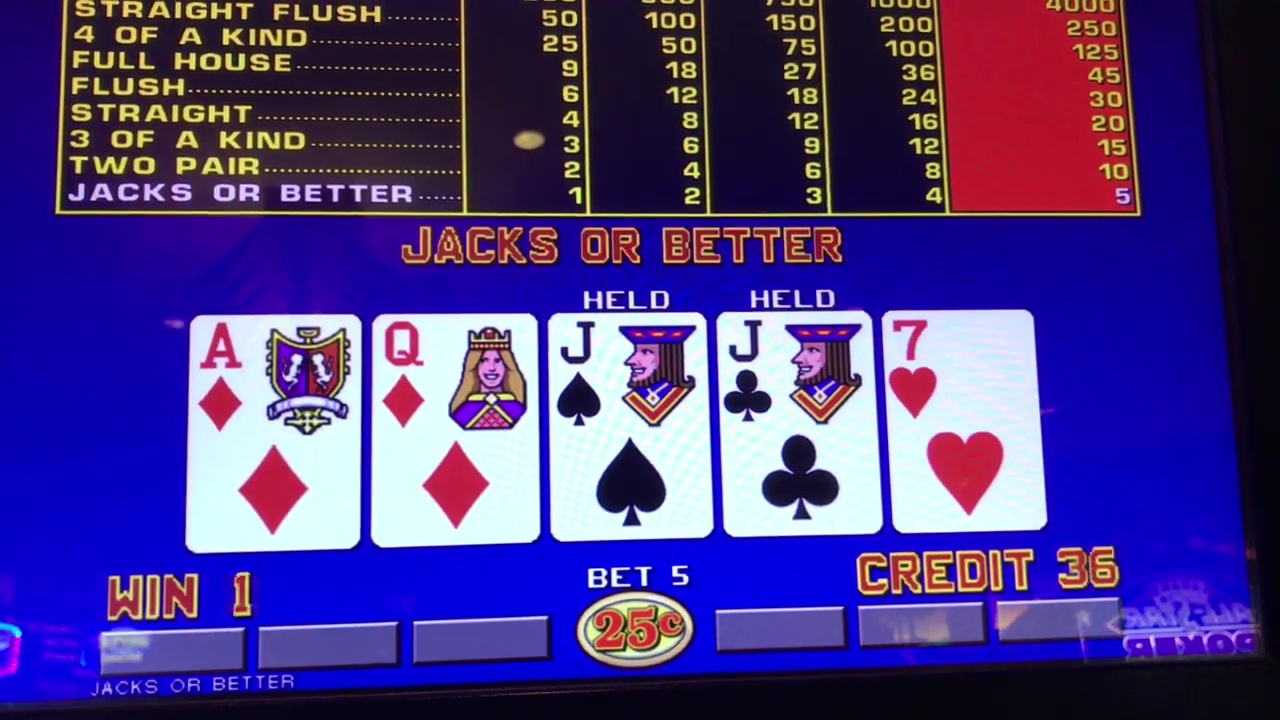CJ: (724, 312, 872, 535)
DA: (196, 313, 351, 549)
DQ: (372, 313, 535, 541)
H7: (887, 313, 1038, 528)
SJ: (553, 313, 692, 539)
